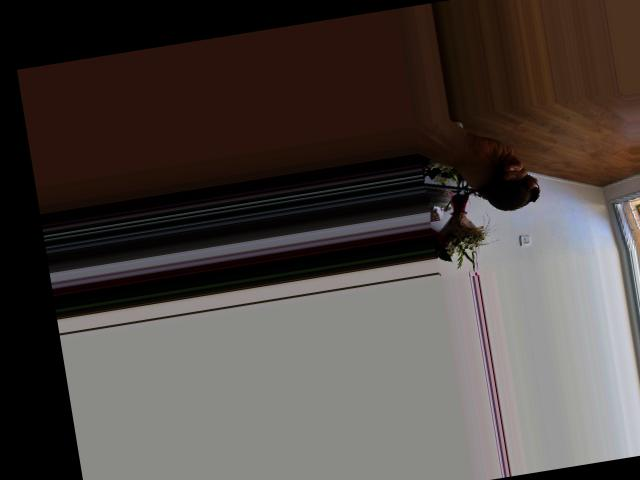beet: (442, 172, 542, 220)
